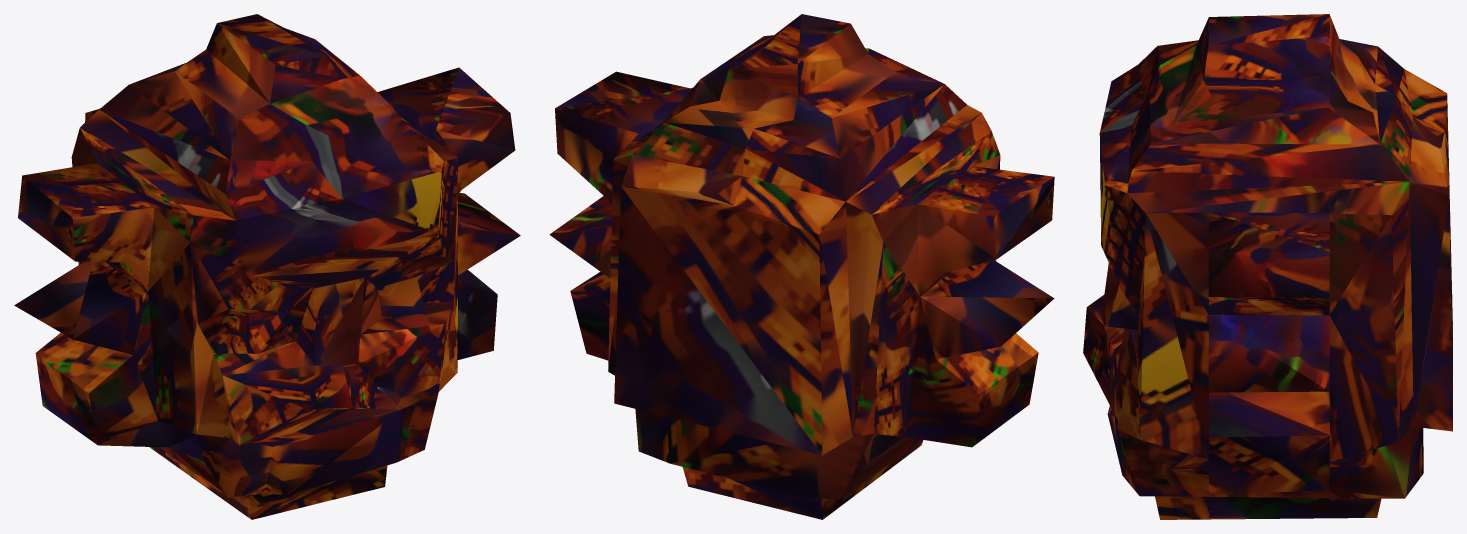
The picture shows the model from 3 angles, left to right: view 1: azimuth 30°, elevation 25°; view 2: azimuth 150°, elevation 25°; view 3: azimuth 270°, elevation 25°; orthographic projection. The views are drawn at different scales.
Parts seen in each view (by area): view 1: unknown; view 2: unknown; view 3: unknown.
Part boxes in pixels (bbox=[...]): unknown: bbox=[14, 14, 520, 519]; unknown: bbox=[549, 14, 1054, 519]; unknown: bbox=[1083, 14, 1452, 519].
Size of the model in its own units: 0.7438 by 0.6746 by 0.4923.
